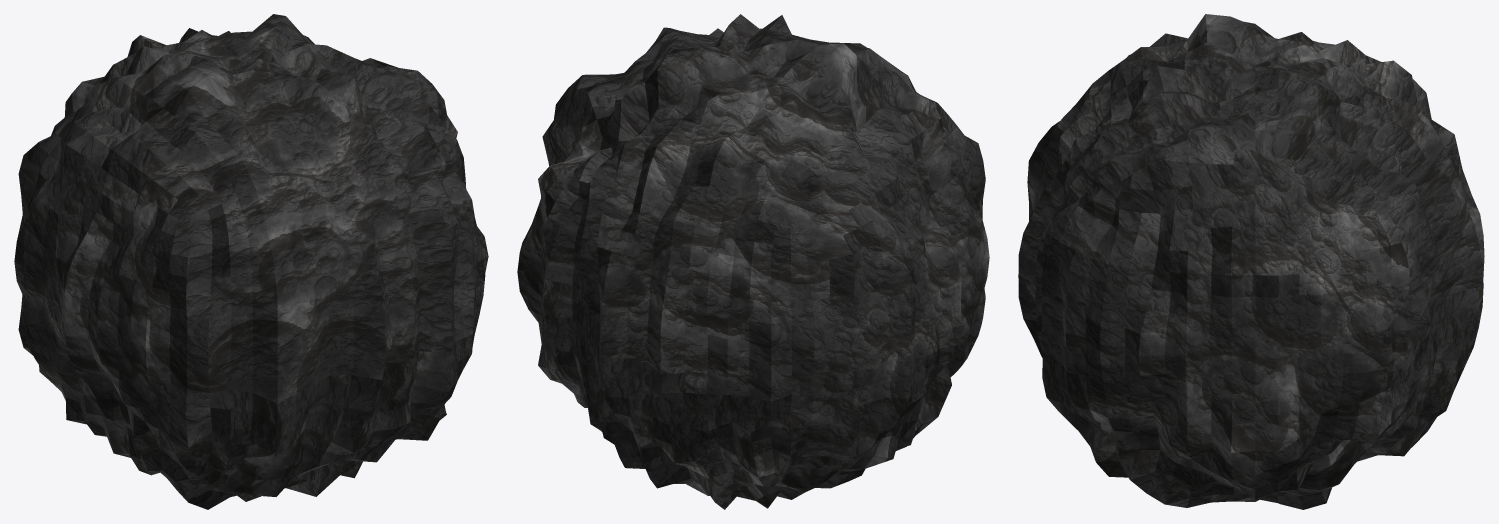
Rendered from asteroid16.obj.
3 views of the same model, side by side, from view 1: azimuth 30°, elevation 25°; view 2: azimuth 150°, elevation 25°; view 3: azimuth 270°, elevation 25° (orthographic).
Visible parts, largest first — view 1: Cube_Cube.002; view 2: Cube_Cube.002; view 3: Cube_Cube.002.
Boxes of the visible parts, bbox=[...] form: Cube_Cube.002: bbox=[14, 14, 488, 509]; Cube_Cube.002: bbox=[517, 14, 989, 509]; Cube_Cube.002: bbox=[1018, 14, 1484, 509].
Bounding box in the file's own units: 1.71 × 1.81 × 1.74.
